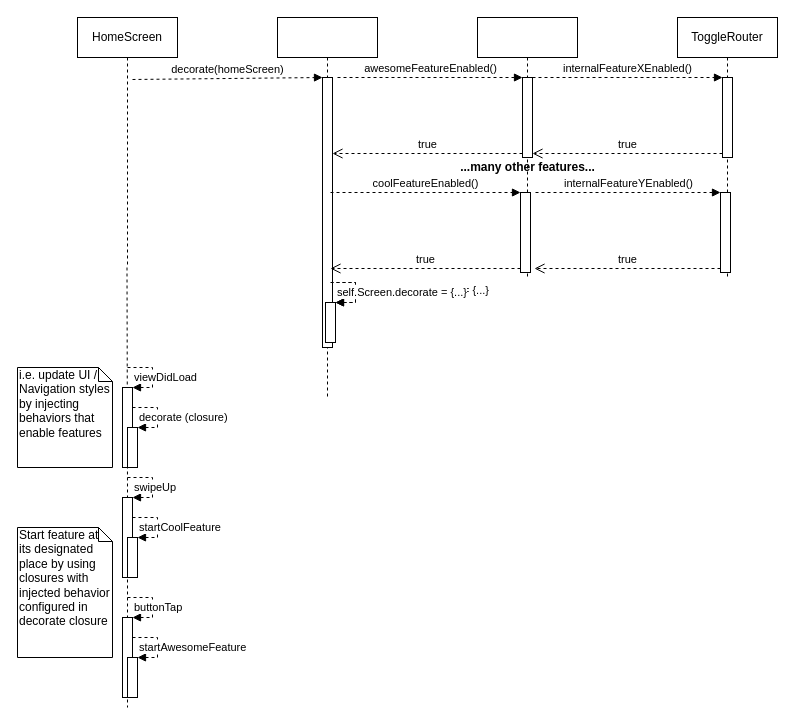
Some shapes in this 795 by 726 pixel diagram are drawn without their labels. Here are the shapes that lost their labels. From the top down, the box of each, then its label:
(476, 16, 578, 278): FeatureDecisions
(276, 16, 378, 398): FeatureTogglable Decorator
